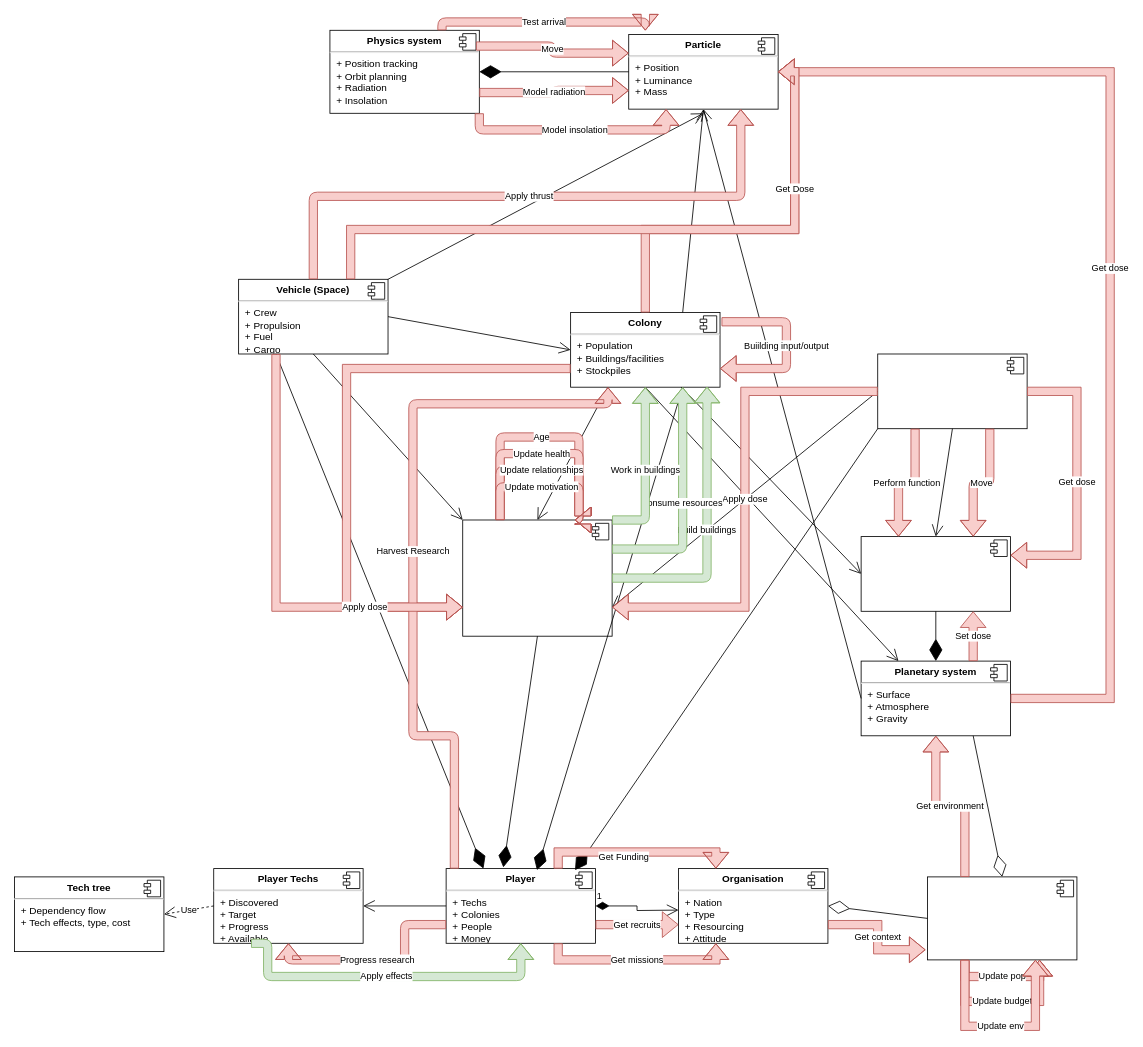
The diagram is 1143 pixels wide and 1047 high, and some of its shapes have lost their labels. Each missing label, with the centre of its shape:
"Human + Age + Sex + Health + Skills + Motivation + Relationships + Task" belongs at point (537, 577).
"Nation + Population + Government + Budget + Territory" belongs at point (1002, 918).
"Surface locus + Coordinates + Terrain" belongs at point (935, 573).
"Vehicle (surface) + Crew + Speed + Cargo + Function" belongs at point (952, 391).
